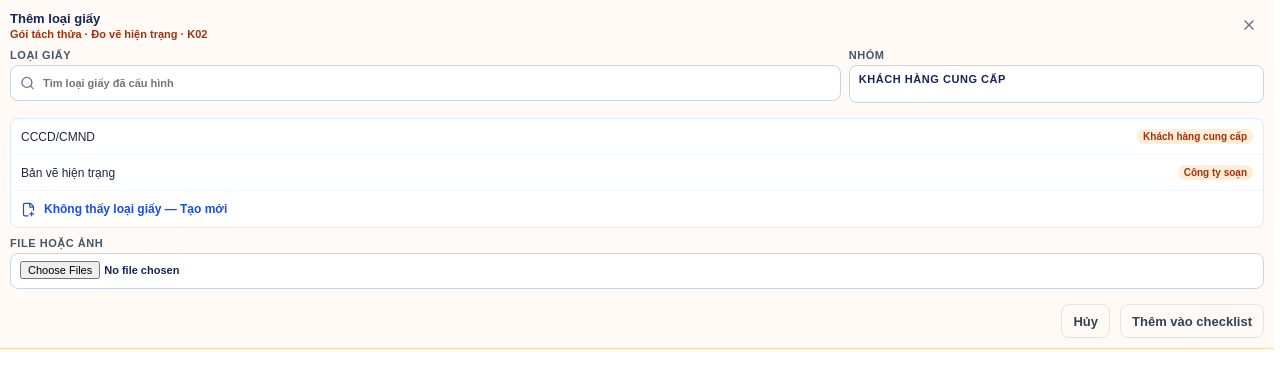
Test: Thêm loại giấy ngay trong checklist › không thấy gợi ý thì cho tạo mới với đúng ba nhóm nguồn
The width and height of the screenshot is (1280, 366).
expect the text "CCCD/CMND" is shown: met, box [21,130,95,144]
Click the option "Không thấy loại giấy — Tạo mới": (124, 209) [21,202,227,216]
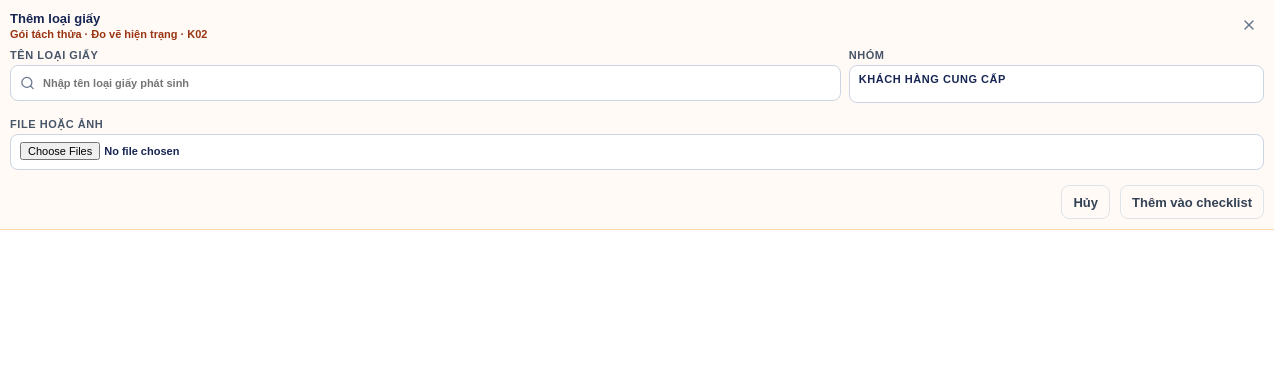
expect the dropdown labelled "Nhóm" is enabled: met, box [849,65,1264,103]
expect the field labelled "Tên loại giấy" is shown: met, box [10,65,841,101]
